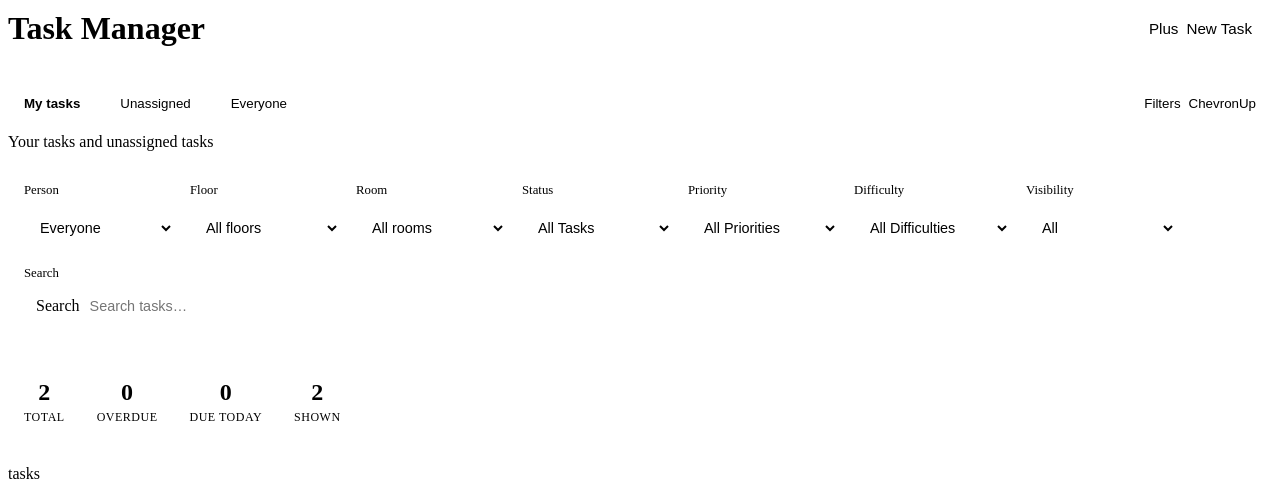
TaskManager › prefills the create form from a person filter
This screenshot has width=1280, height=496.
Click the button with test id "tasks-filter-all" at (259, 103), box [215,81,303,125]
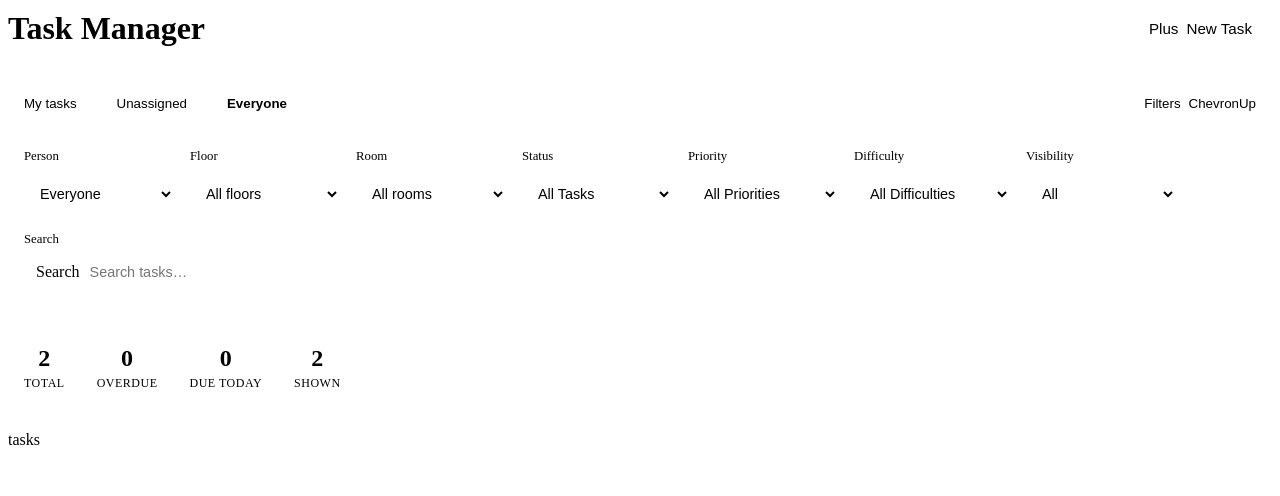
Select "Teen" in the dropdown with test id "person-filter" at (99, 194), box [24,172,174,216]
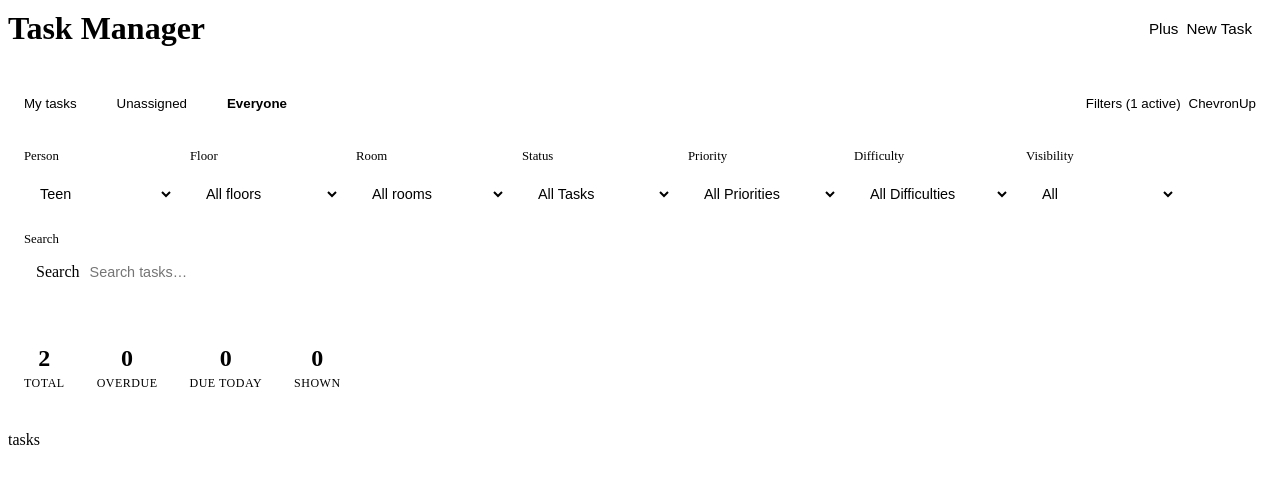
Click the button with test id "add-task-button" at (1200, 28), box [1129,8,1272,49]
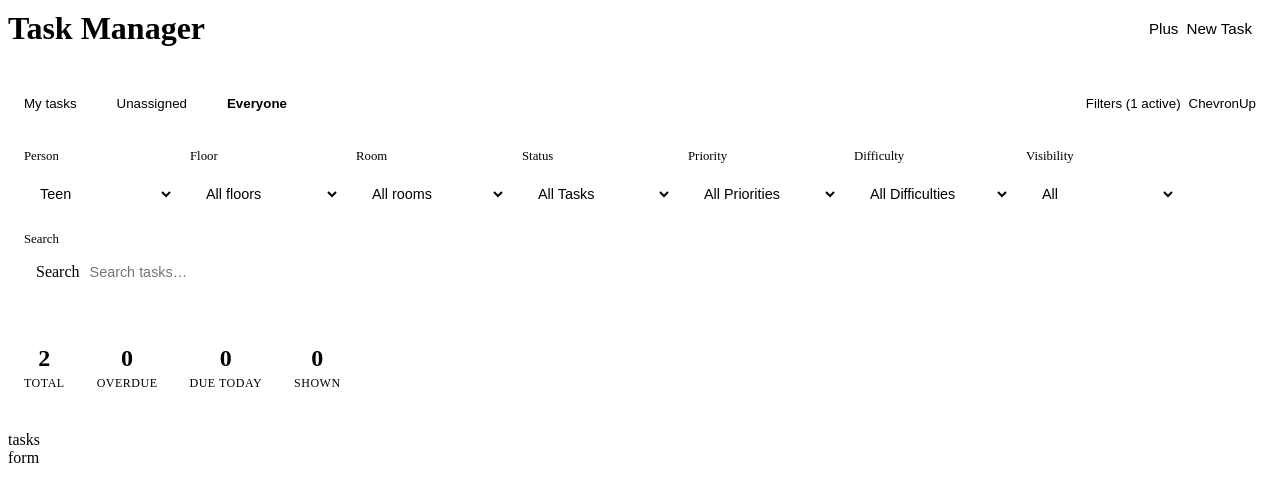
Expected: the text "form" is shown, [8,449,39,466]
